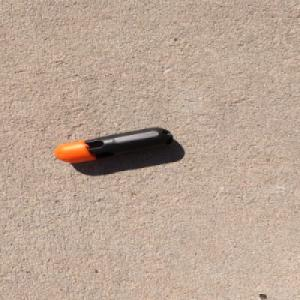PlasticPart: (52, 126, 176, 163)
